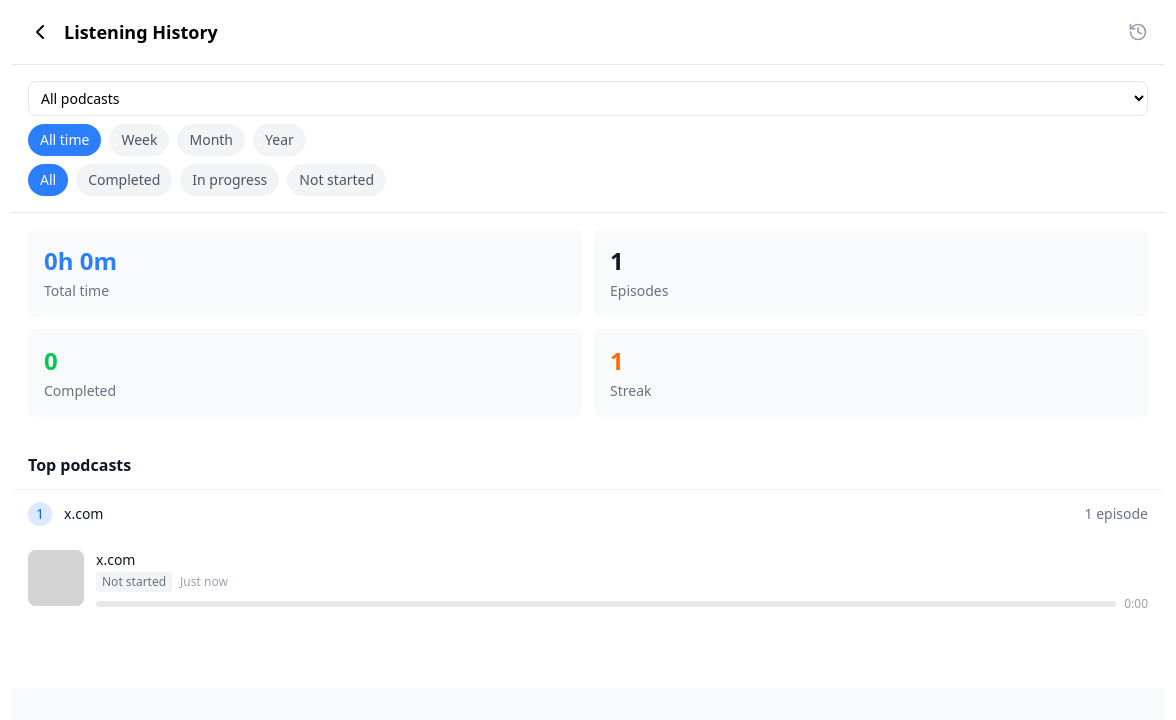
Test case: ListeningHistory › shows a distinct empty state when filters exclude every entry
The image size is (1176, 720).
Expected: the number of buttons with test id "history-row" is 1, left=12, top=538, right=1164, bottom=624
Step 1. Click the button "Completed" → click(124, 180), box left=76, top=164, right=172, bottom=196
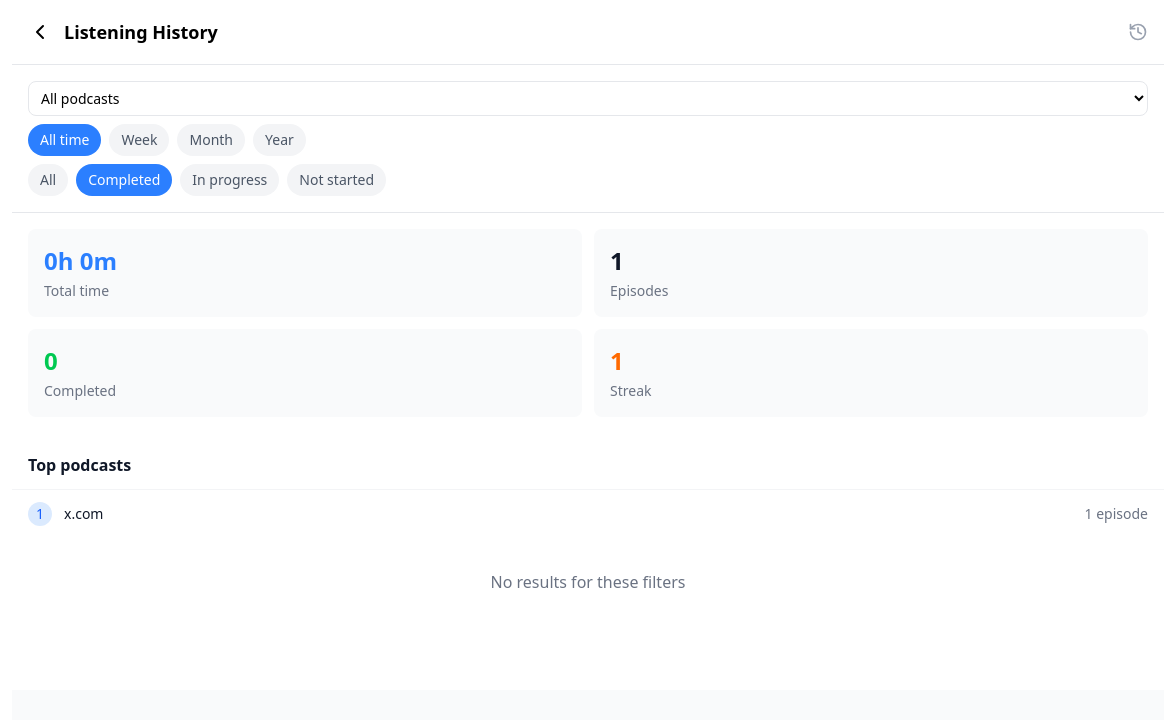
Result: the text "No results for these filters" is shown at left=490, top=571, right=685, bottom=593
